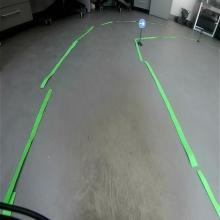right: (139, 18, 146, 29)
